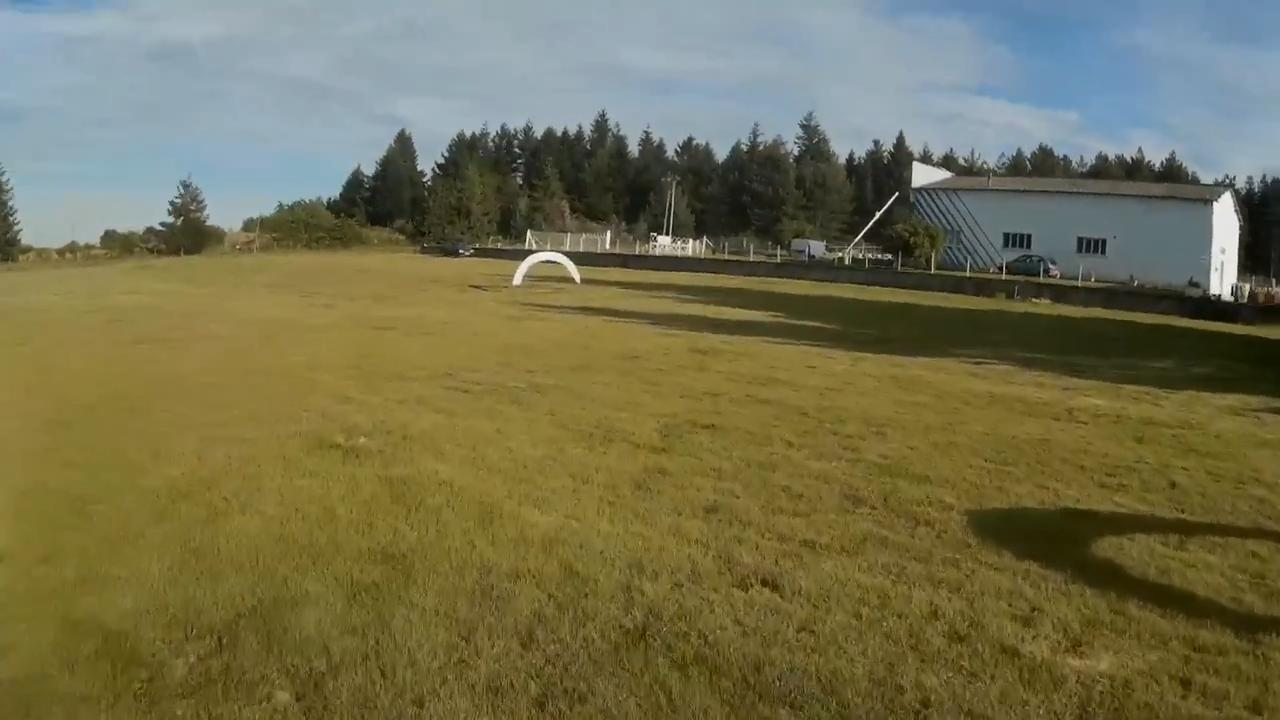gate: (512, 251, 583, 287)
